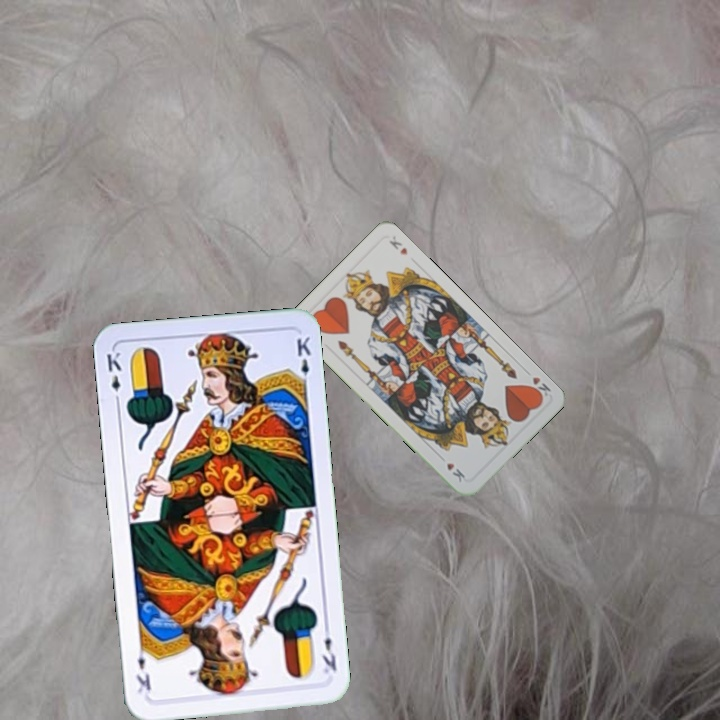EK: (102, 348, 124, 407), (318, 621, 339, 676)
HK: (520, 365, 553, 402)
